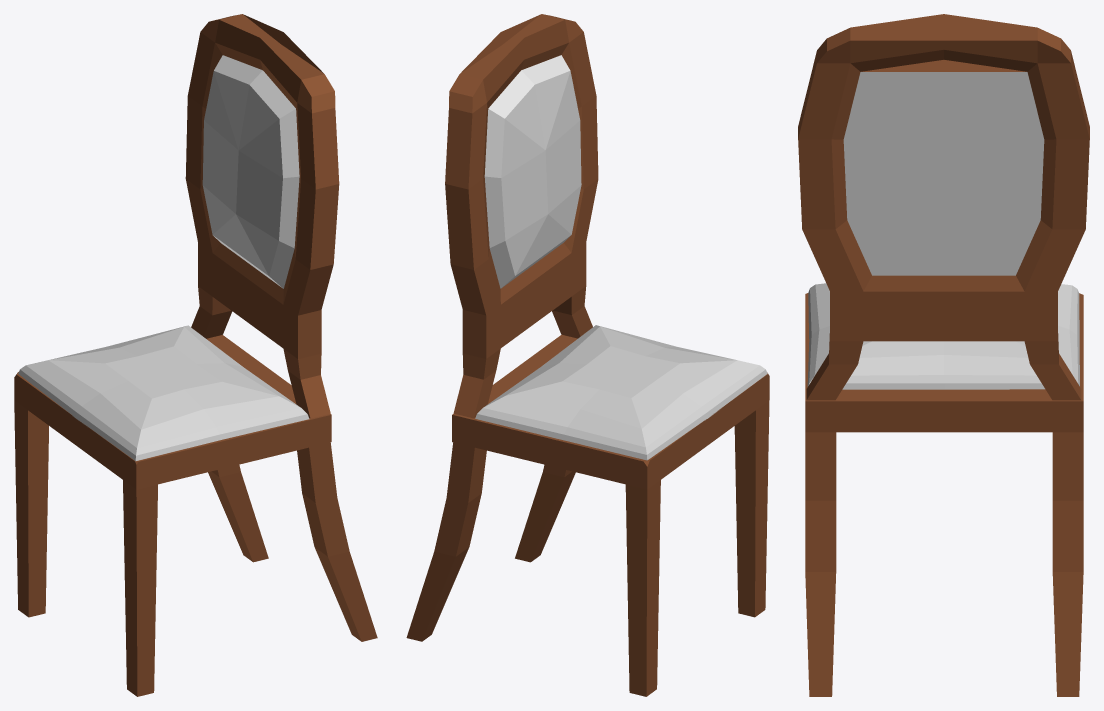
File: chairwooddetailed01.obj
3 views of the same model, side by side, from view 1: azimuth 30°, elevation 25°; view 2: azimuth 150°, elevation 25°; view 3: azimuth 270°, elevation 25° (orthographic). The views are drawn at different scales.
Visible parts, largest first — view 1: Cube.001_Cube.005; view 2: Cube.001_Cube.005; view 3: Cube.001_Cube.005.
Part boxes in pixels (x1,y1,x2,y2): Cube.001_Cube.005: (14,14,377,696); Cube.001_Cube.005: (406,14,769,696); Cube.001_Cube.005: (798,14,1089,696).
Bounding box in the file's own units: 0.5469 × 1.23 × 0.4989.
